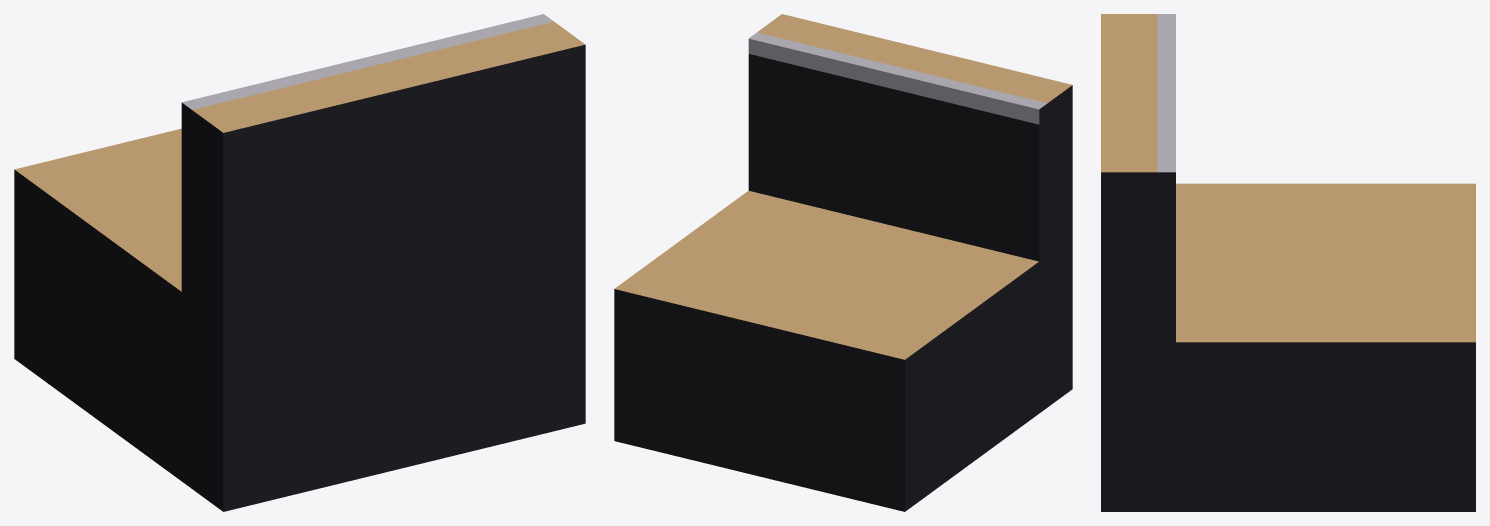
The model's file is Ledge_Block_LRG_NG.fbx.
The picture shows the model from 3 angles, left to right: view 1: azimuth 30°, elevation 25°; view 2: azimuth 150°, elevation 25°; view 3: azimuth 270°, elevation 25°; orthographic projection. The views are drawn at different scales.
Visible parts, largest first — view 1: Ledge_Block_LRG_NG; view 2: Ledge_Block_LRG_NG; view 3: Ledge_Block_LRG_NG.
Boxes of the visible parts, x1,y1,x2,y2 form: Ledge_Block_LRG_NG: [14, 14, 585, 511]; Ledge_Block_LRG_NG: [614, 14, 1072, 511]; Ledge_Block_LRG_NG: [1101, 14, 1475, 511].
Size of the model in its own units: 10 by 10 by 10.
